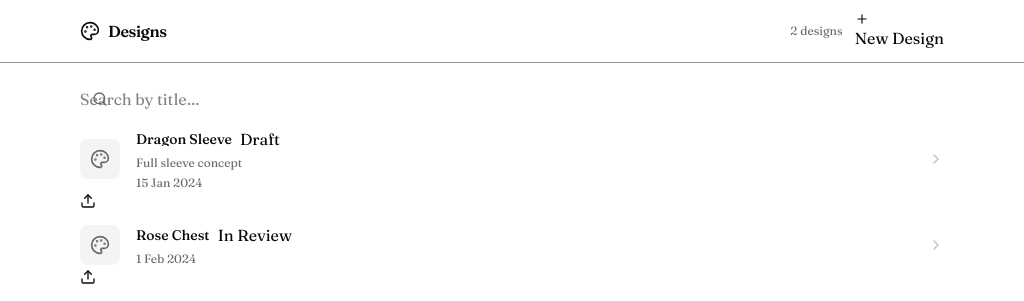
Test case: DesignListPage › search is case-insensitive
This screenshot has width=1024, height=301.
Expected: the text "Dragon Sleeve" is shown, [136,132,232,146]
Type "rose" into the field with placeholder "Search by title…" at (186, 99), box [80,87,291,111]
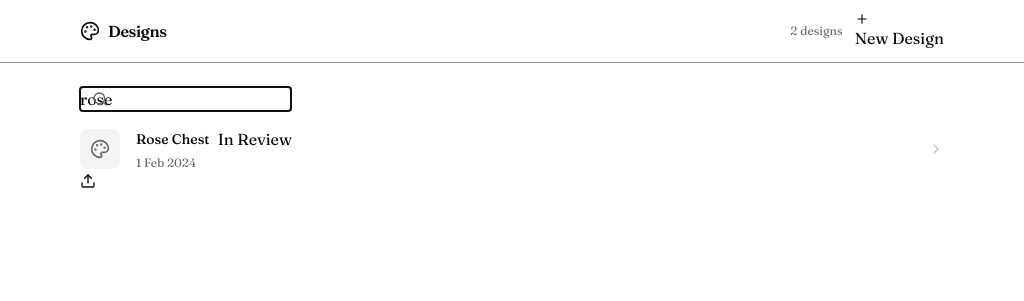
Expected: the text "Rose Chest" is shown, [136,132,210,146]
Now the link "Dragon Sleeve" is gone
